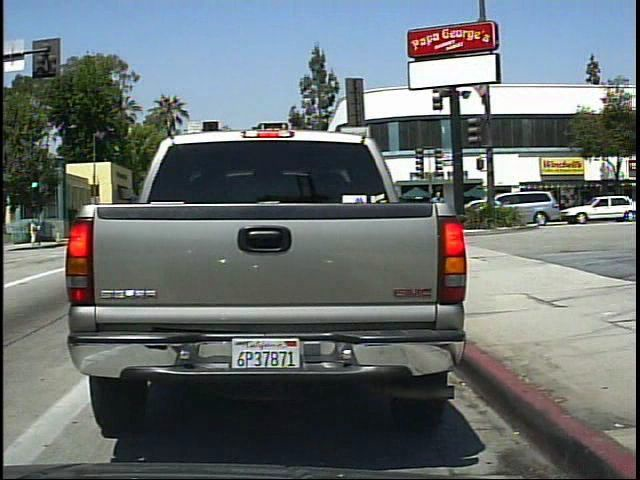person: (427, 186, 449, 243), (28, 214, 44, 250)
